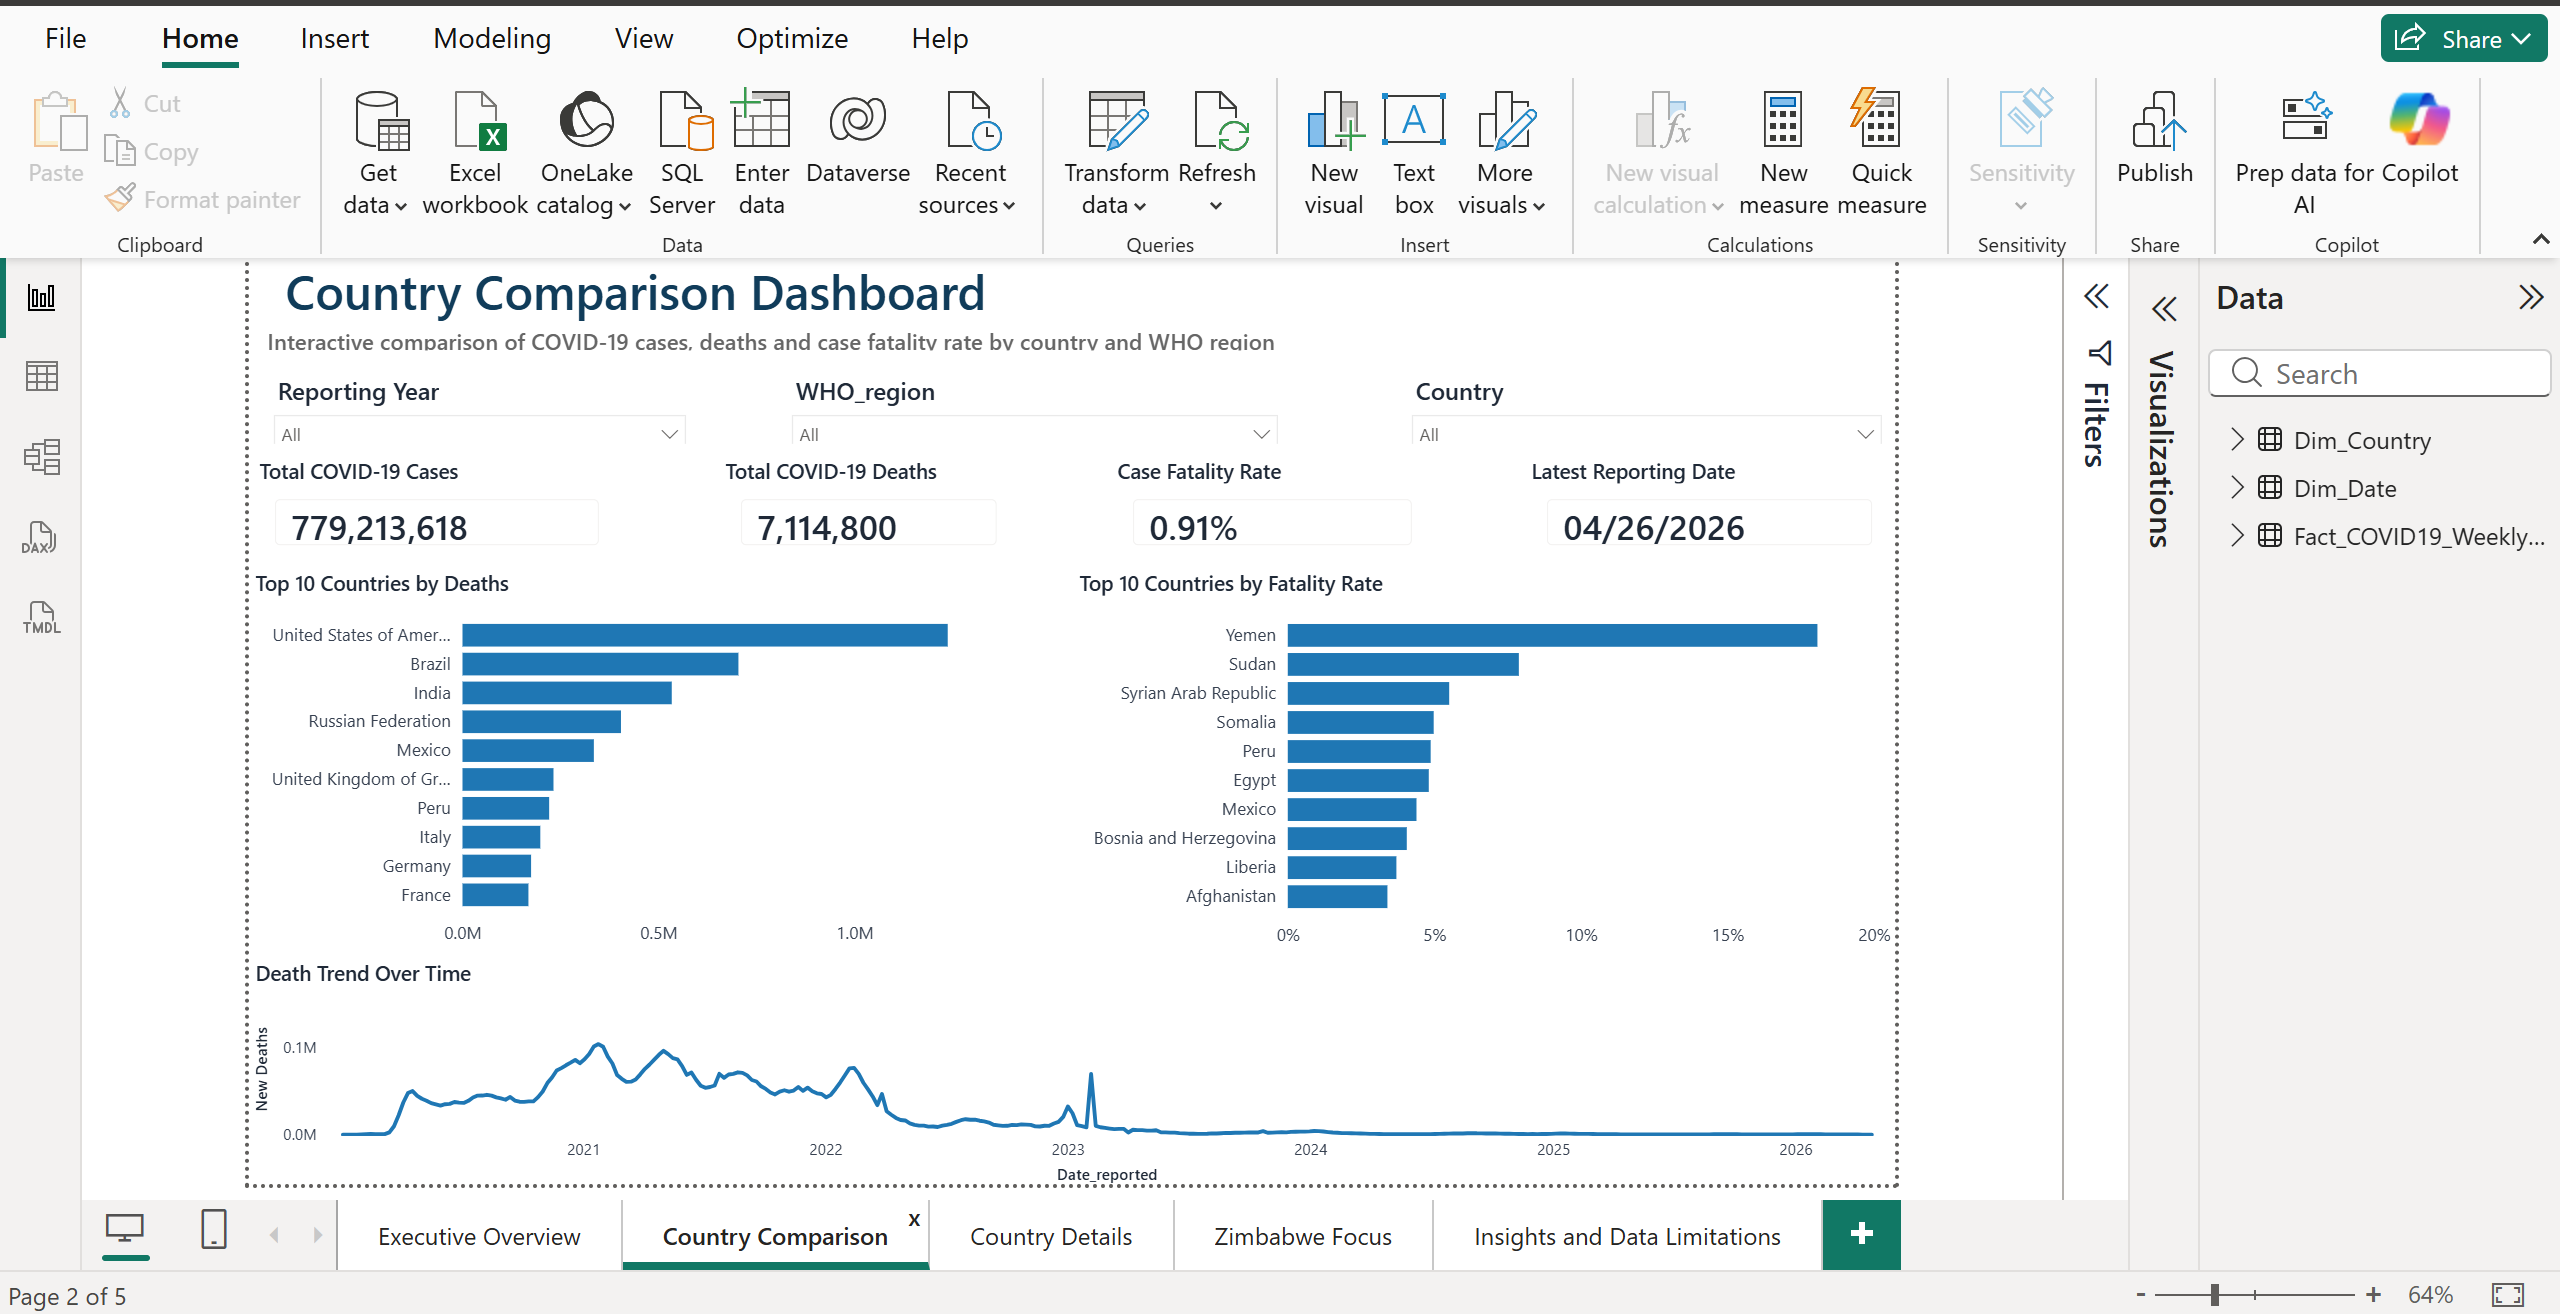

The page's visual inventory and layout, read from the dashboard file:
{"tool":"powerbi","page":{"name":"Country Comparison","canvas":[1280,720],"ordinal":1},"visuals":[{"type":"textbox","title":"Country Comparison Dashboard","box":[22.7,0,588.9,53],"z":0},{"type":"clusteredBarChart","title":"Top 10 Countries by Deaths","fields":{"Y":["Fact_COVID19_Weekly_WHO.Total Deaths"],"Category":["Dim_Country.Column2"]},"box":[0,241,612.7,303.2],"z":1000},{"type":"textbox","title":"Interactive comparison of  COVID-19 cases, deaths and case fatality rate by country and WHO region ","box":[9.5,53,1270.5,18.9],"z":2000},{"type":"slicer","fields":{"Values":["Fact_COVID19_Weekly_WHO.WHO_region"]},"box":[412.1,85.5,398.1,59.1],"z":3000},{"type":"slicer","fields":{"Values":["Fact_COVID19_Weekly_WHO.Country"]},"box":[894.2,85.5,385.7,59.1],"z":4000},{"type":"slicer","fields":{"Values":["Fact_COVID19_Weekly_WHO.Year"]},"box":[9.3,85.5,340.6,59.1],"z":5000},{"type":"cardVisual","title":"Total COVID-19 Cases","fields":{"Data":["Fact_COVID19_Weekly_WHO.Total Cases"]},"box":[3.1,154,286.1,87.1],"z":6000},{"type":"cardVisual","title":"Total COVID-19 Deaths","fields":{"Data":["Fact_COVID19_Weekly_WHO.Total Deaths"]},"box":[365.4,154,233.3,87.1],"z":7000},{"type":"cardVisual","title":"Case Fatality Rate","fields":{"Data":["Fact_COVID19_Weekly_WHO.Case Fatality Rate"]},"box":[670.2,154,251.9,87.1],"z":8000},{"type":"cardVisual","title":"Latest Reporting Date","fields":{"Data":["Fact_COVID19_Weekly_WHO.Latest Reporting Date"]},"box":[992.1,154,287.7,87.1],"z":9000},{"type":"clusteredBarChart","title":"Top 10 Countries by  Fatality Rate ","fields":{"Y":["Fact_COVID19_Weekly_WHO.Case Fatality Rate"],"Category":["Fact_COVID19_Weekly_WHO.Country"]},"box":[640.7,241,640.7,304.8],"z":10000},{"type":"lineChart","title":"Death Trend Over Time","fields":{"Y":["Sum(Fact_COVID19_Weekly_WHO.New_deaths)"],"Category":["Dim_Date.Date_reported"]},"box":[0,544.3,1279.8,180.4],"z":11000}]}

Visuals, with their boxes on the page's 1280x720 design canvas (x1, y1, x2, y2). These are canvas units, not pixel positions in the 2560x1314 screenshot, which may show the page scaled, cropped or inside an application window:
"Country Comparison Dashboard" textbox: Rect(23, 0, 612, 53)
"Top 10 Countries by Deaths" clusteredBarChart: Rect(0, 241, 613, 544)
"Interactive comparison of  COVID-19 cases, deaths and case fatality rate by country and WHO region " textbox: Rect(10, 53, 1280, 72)
slicer - Fact_COVID19_Weekly_WHO.WHO_region: Rect(412, 86, 810, 145)
slicer - Fact_COVID19_Weekly_WHO.Country: Rect(894, 86, 1280, 145)
slicer - Fact_COVID19_Weekly_WHO.Year: Rect(9, 86, 350, 145)
"Total COVID-19 Cases" cardVisual: Rect(3, 154, 289, 241)
"Total COVID-19 Deaths" cardVisual: Rect(365, 154, 599, 241)
"Case Fatality Rate" cardVisual: Rect(670, 154, 922, 241)
"Latest Reporting Date" cardVisual: Rect(992, 154, 1280, 241)
"Top 10 Countries by  Fatality Rate " clusteredBarChart: Rect(641, 241, 1281, 546)
"Death Trend Over Time" lineChart: Rect(0, 544, 1280, 725)
